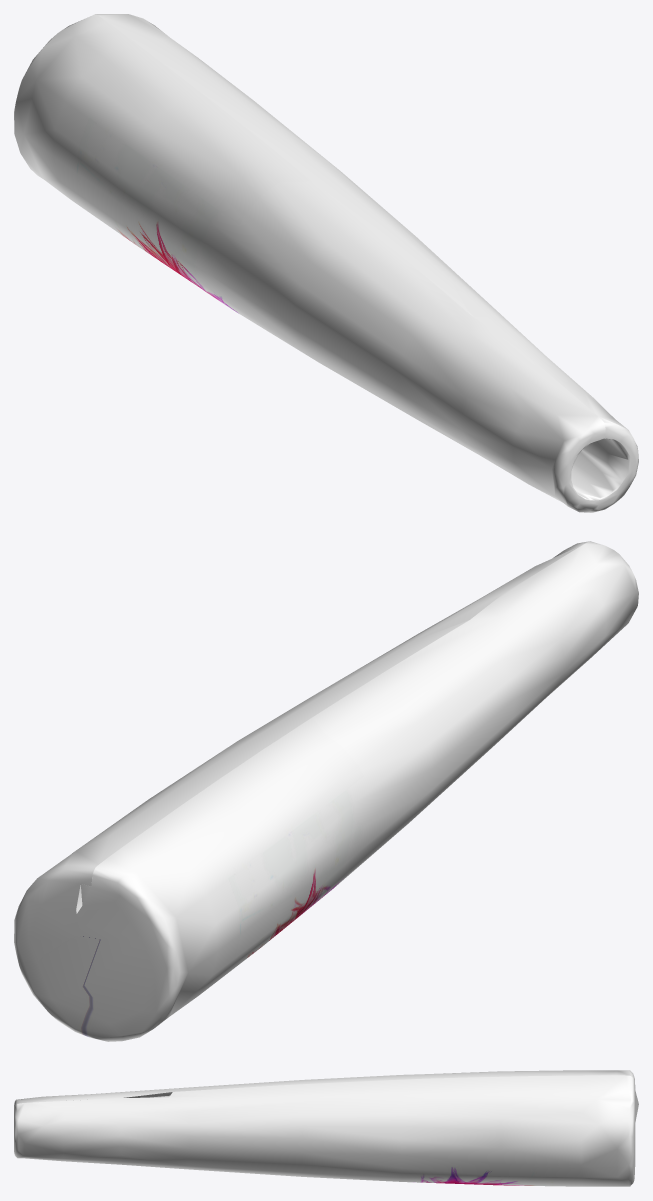
The model's file is FlowerVase.fbx.
The picture shows the model from 3 angles, top to bottom: view 1: azimuth 30°, elevation 25°; view 2: azimuth 150°, elevation 25°; view 3: azimuth 270°, elevation 25°; orthographic projection. The views are drawn at different scales.
Visible parts, largest first — view 1: JEMINA vase; view 2: JEMINA vase; view 3: JEMINA vase.
Boxes of the visible parts, <box> form: JEMINA vase: <box>14,14,638,512</box>; JEMINA vase: <box>14,541,638,1041</box>; JEMINA vase: <box>14,1070,638,1186</box>.
Bounding box in the file's own units: 0.0233 × 0.0233 × 0.1247.
1 material, 1 textured.
